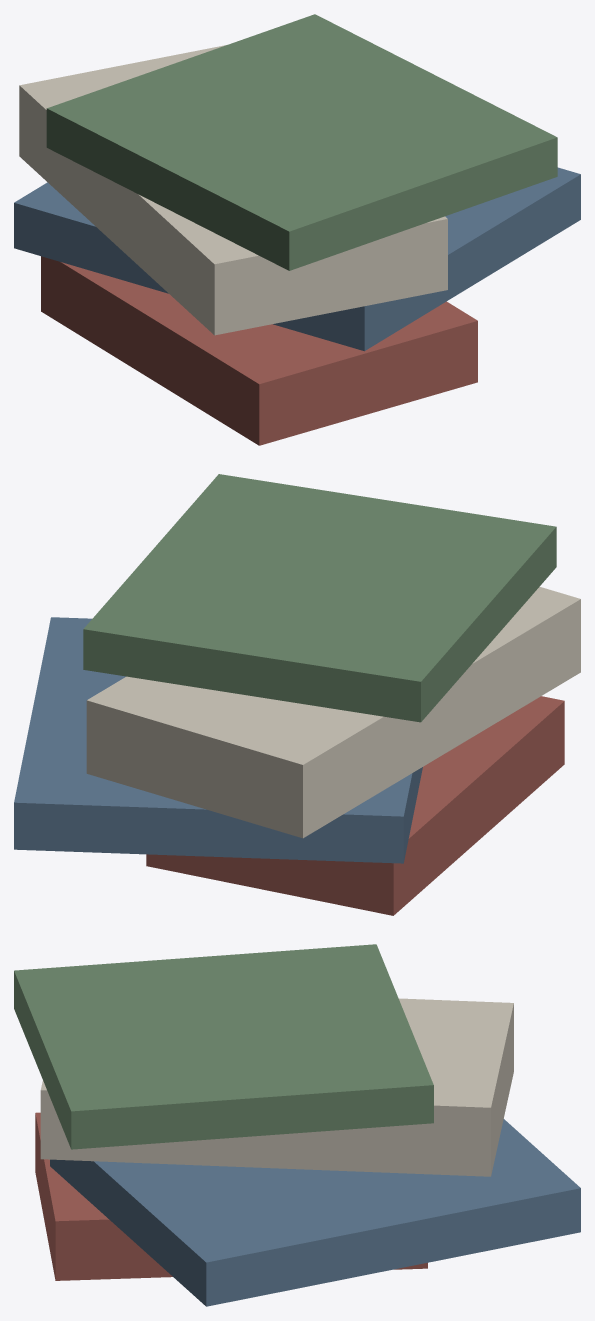
Rendered from mov_3c05370ccc.gltf.
The picture shows the model from 3 angles, top to bottom: view 1: azimuth 30°, elevation 25°; view 2: azimuth 150°, elevation 25°; view 3: azimuth 270°, elevation 25°; orthographic projection. The views are drawn at different scales.
Visible parts, largest first — view 1: mov_3c05370ccc; view 2: mov_3c05370ccc; view 3: mov_3c05370ccc.
Part boxes in pixels (box(x1,y1,x2,y2)): mov_3c05370ccc: box(14, 14, 580, 445); mov_3c05370ccc: box(14, 474, 580, 915); mov_3c05370ccc: box(14, 944, 580, 1306).
Size of the model in its own units: 0.3166 by 0.1449 by 0.3528.
